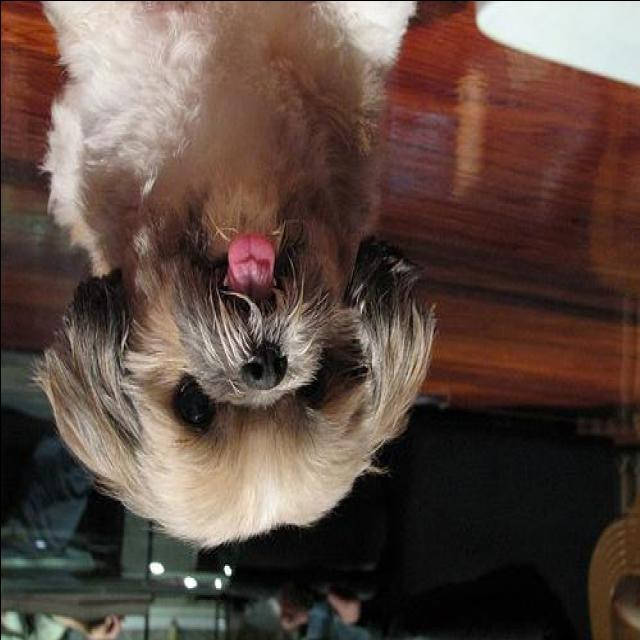shih_tzu: (34, 2, 440, 550)
